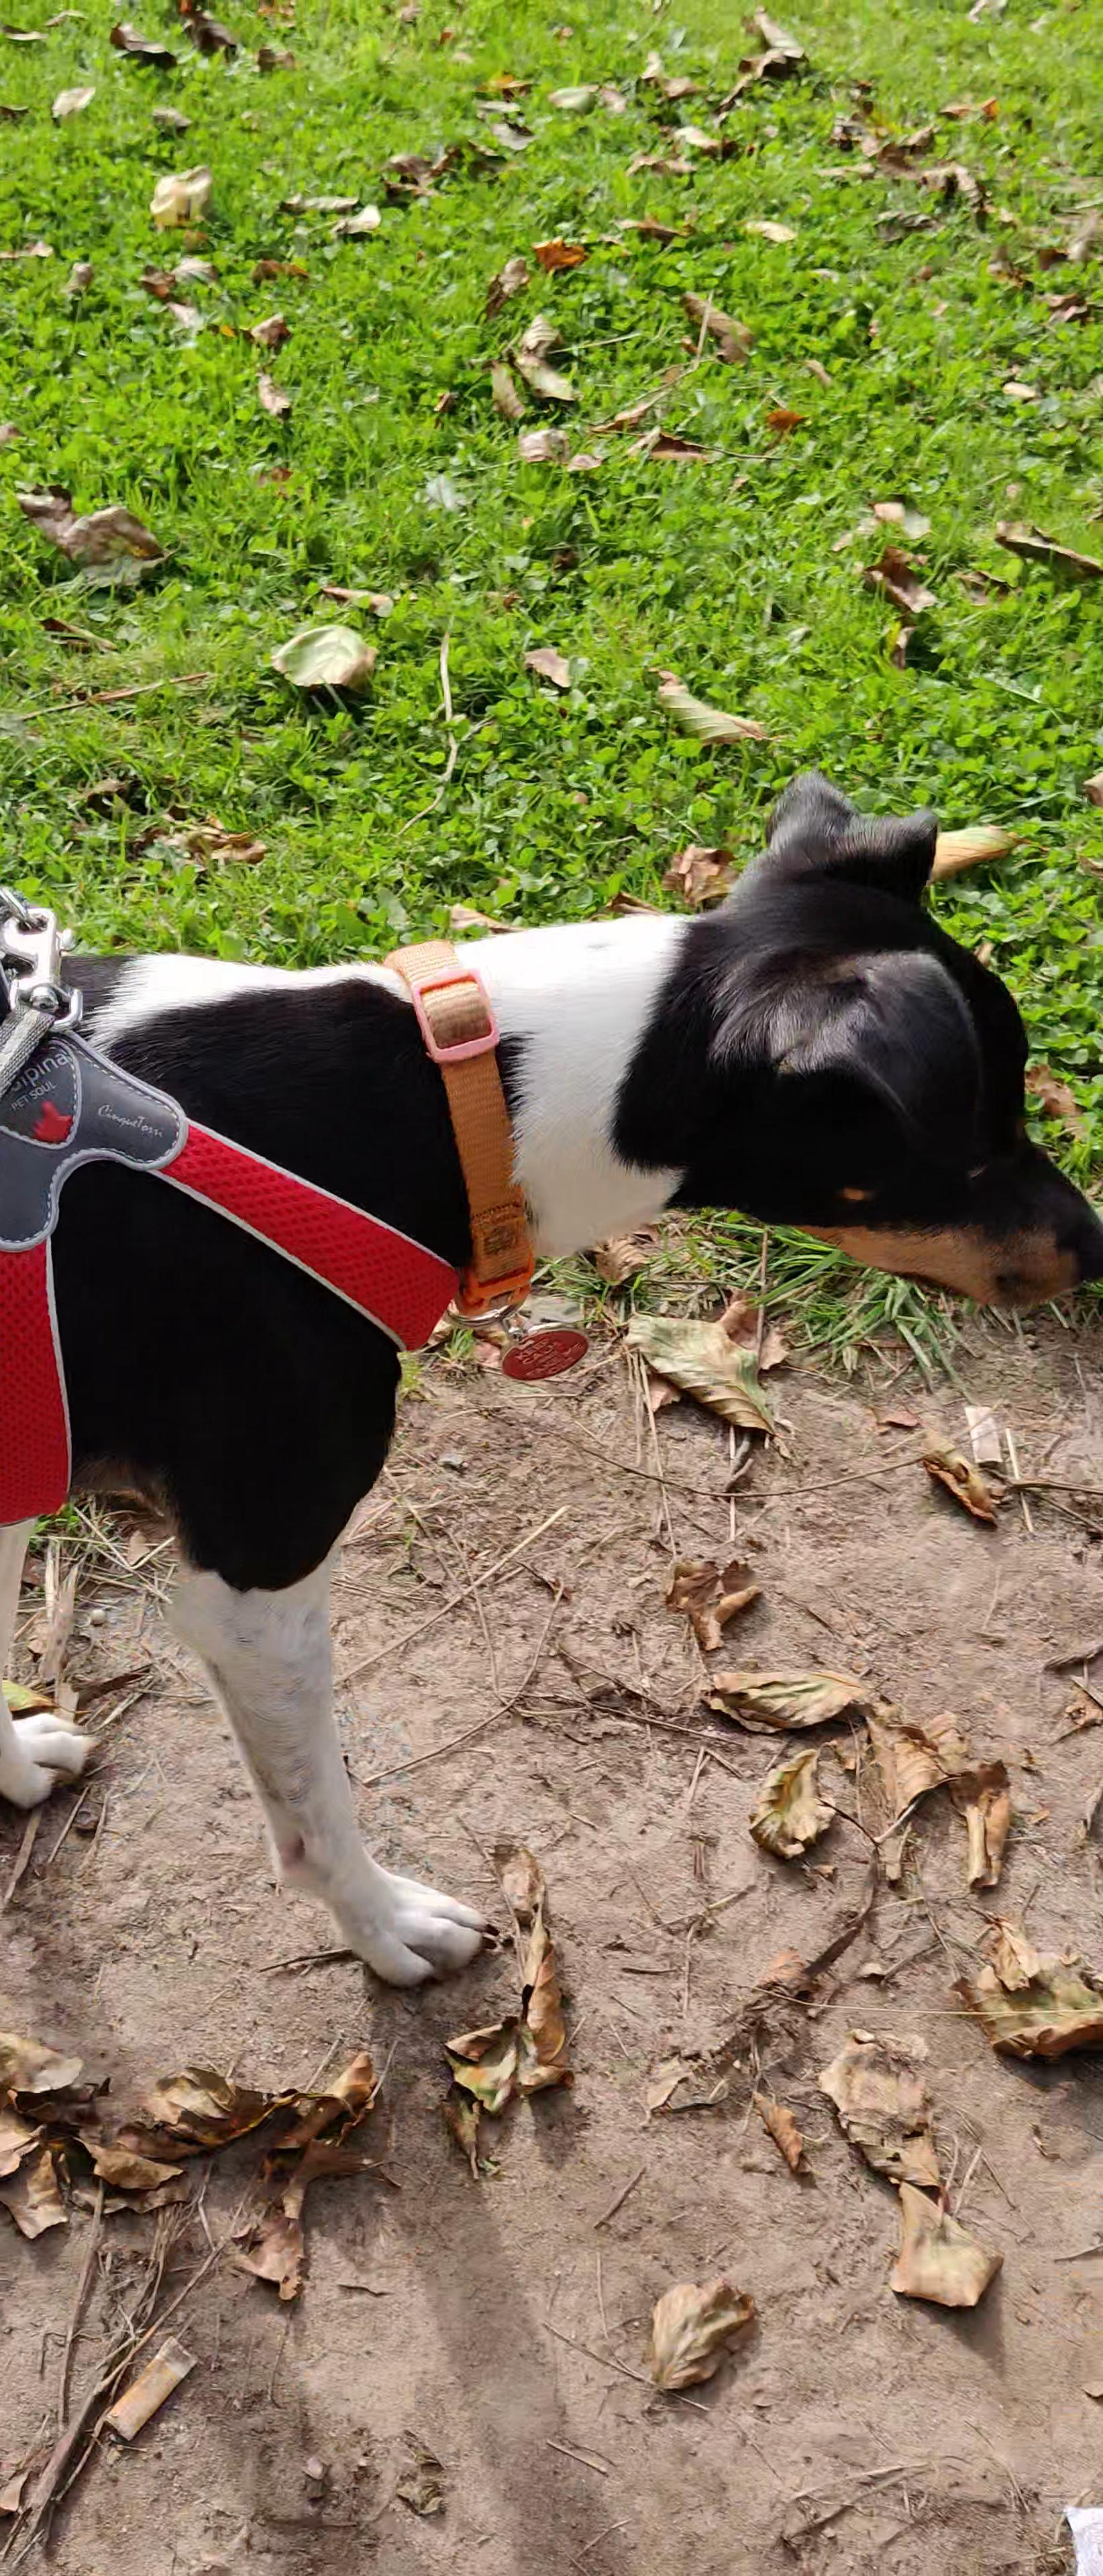Dog: (0, 757, 1103, 1993)
